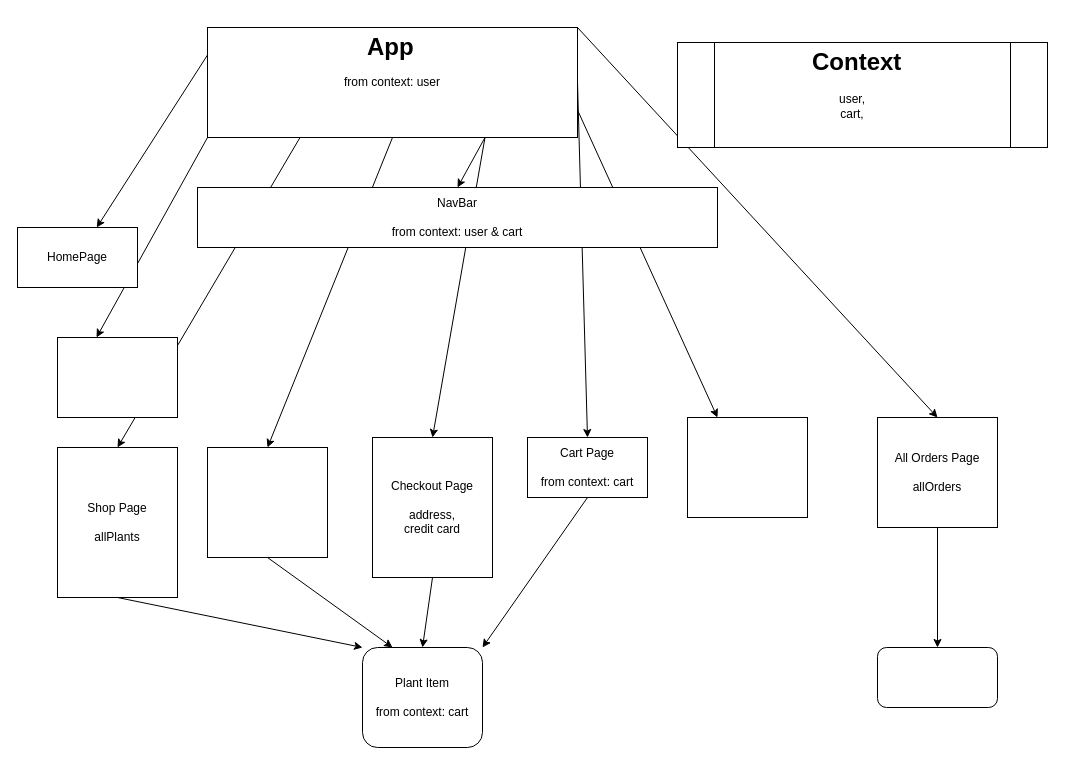
This 1065x765 diagram has some shape labels left out. Here are the shapes that lost their labels. From the top down, the centre of each, then its label:
the point at 117,377: Sign Up / Login Page from context: user
the point at 747,467: Plant Details Page from context: cart
the point at 267,502: Single Order Page singleOrder
the point at 937,677: Order Dates
